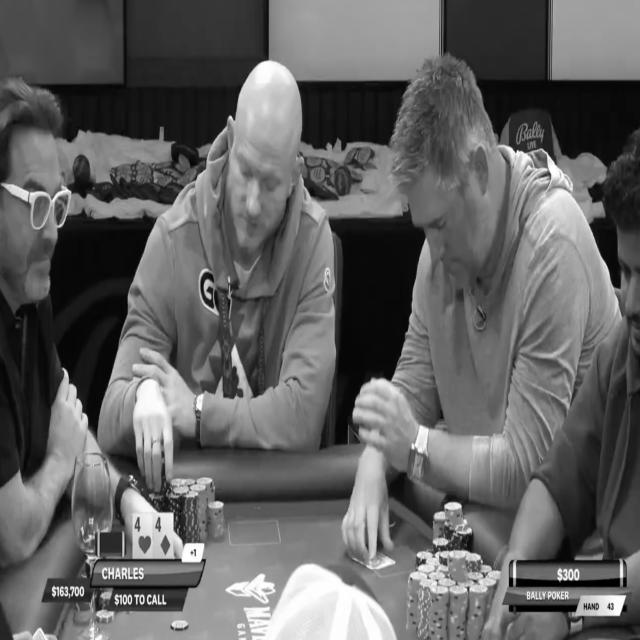4D: (153, 514, 174, 561)
4H: (133, 512, 153, 560)
